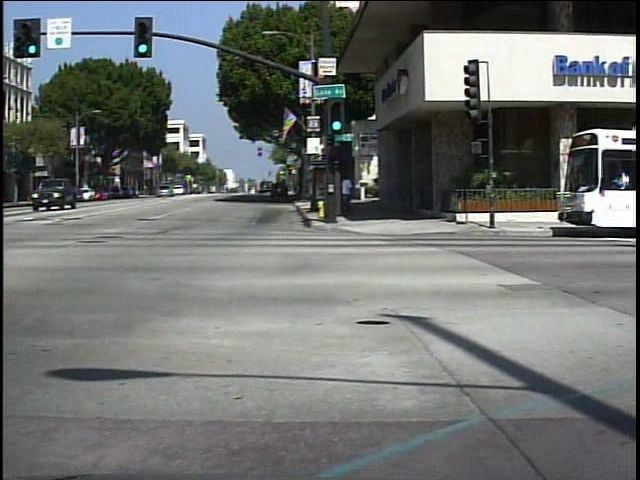person: (339, 170, 361, 220)
